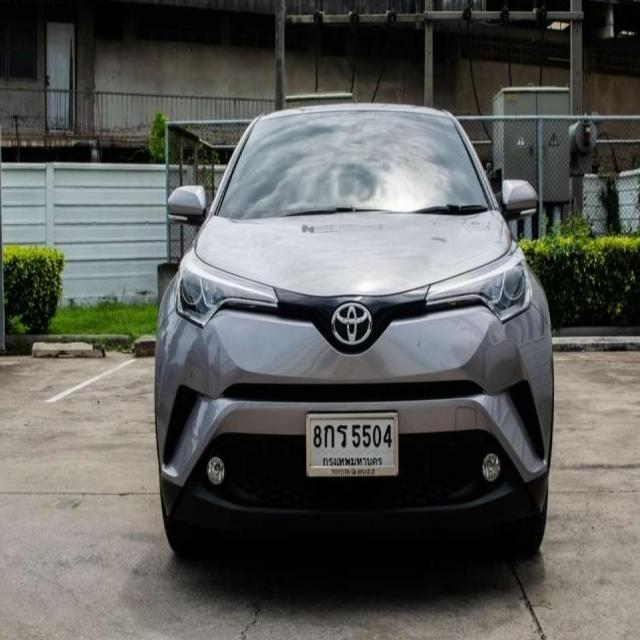license_plate: (305, 412, 400, 478)
